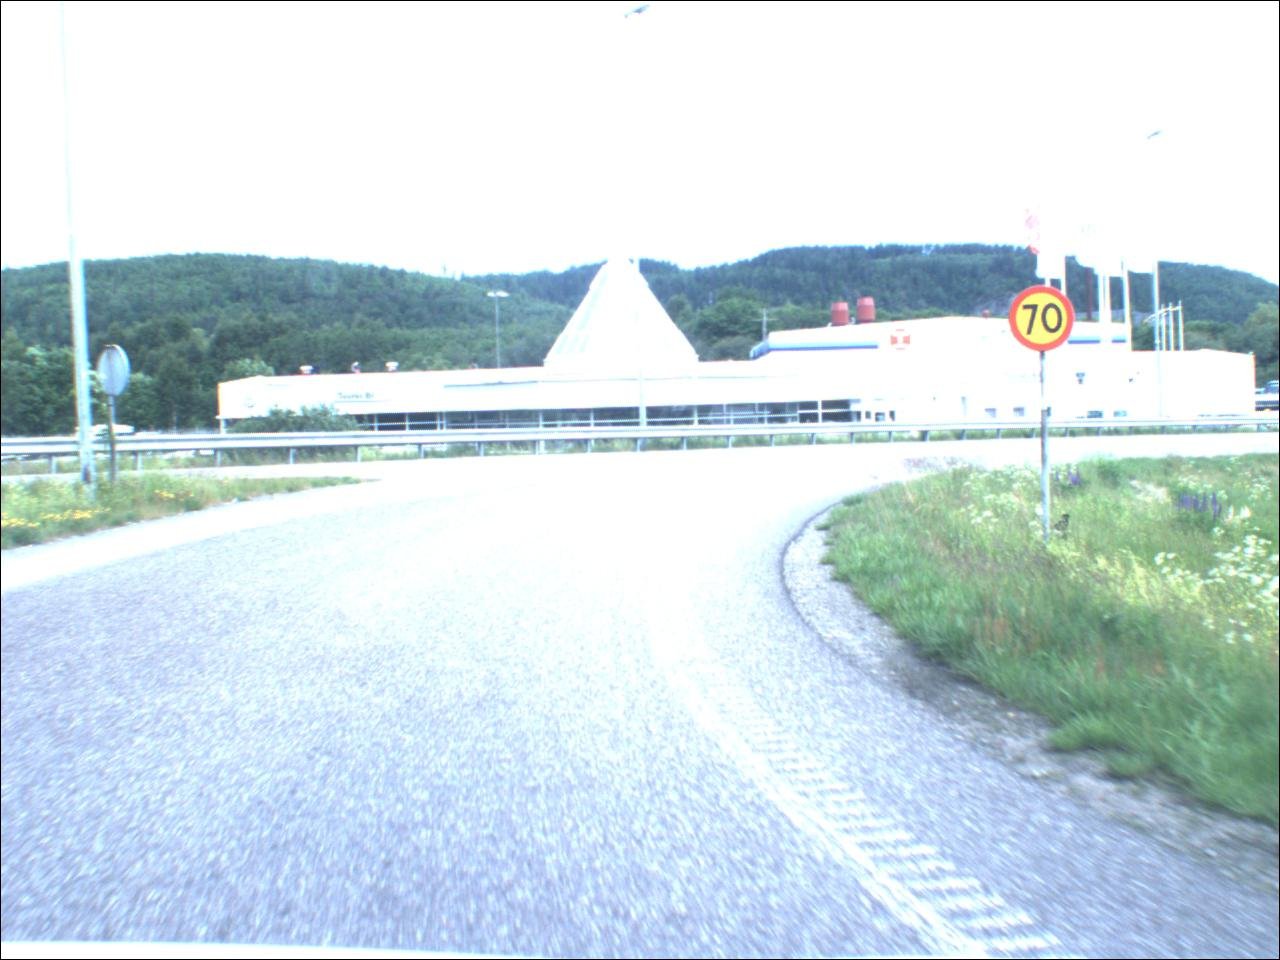70_SIGN: (1011, 286, 1082, 354)
